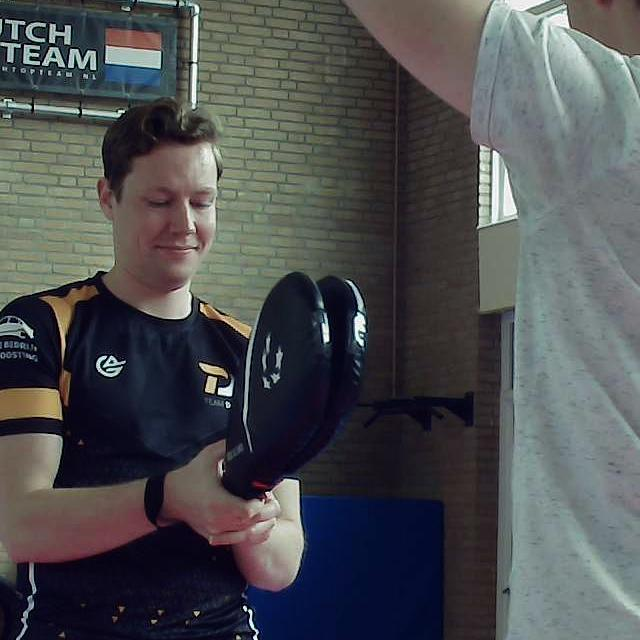paddle: (220, 274, 369, 498)
